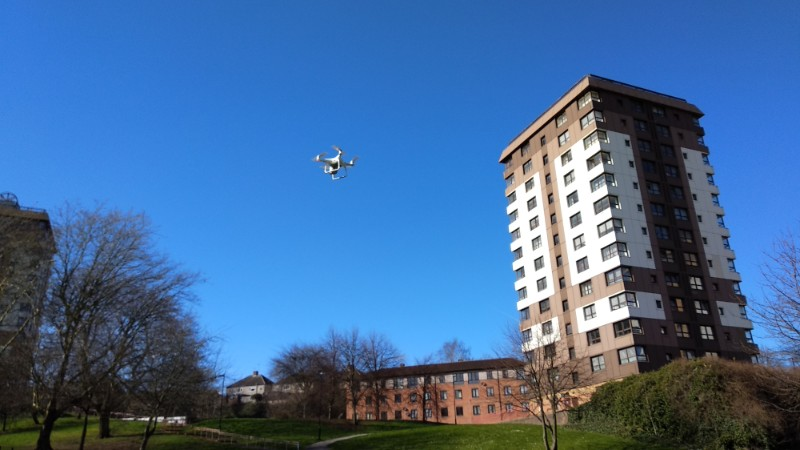drone: (310, 144, 363, 182)
